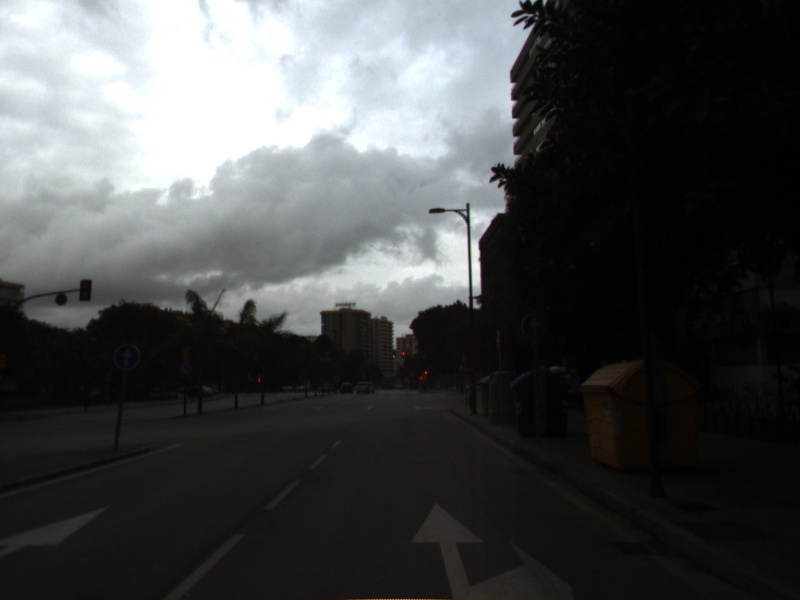STRAIGHT: (1, 502, 114, 559)
STRAIGHT_RIGHT: (407, 498, 578, 600)
